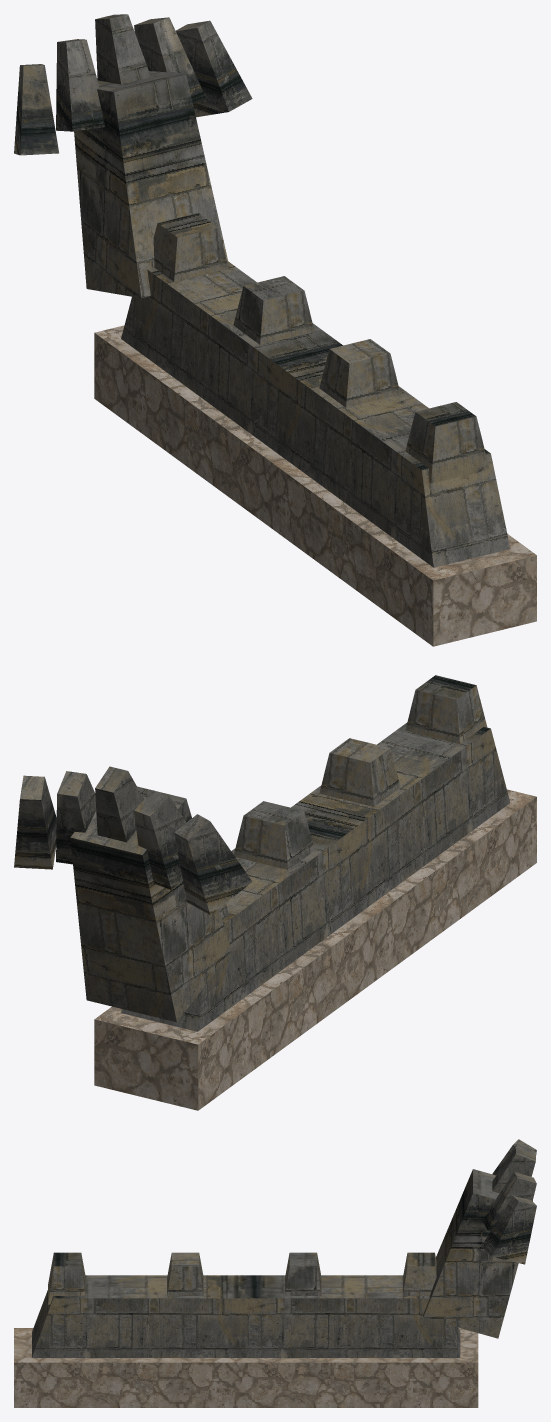
The model's file is temple_statue_naga_rail.glb.
The picture shows the model from 3 angles, top to bottom: view 1: azimuth 30°, elevation 25°; view 2: azimuth 150°, elevation 25°; view 3: azimuth 270°, elevation 25°; orthographic projection. The views are drawn at different scales.
Visible parts, largest first — view 1: temple_statue_naga_rail; view 2: temple_statue_naga_rail; view 3: temple_statue_naga_rail.
Boxes of the visible parts, x1,y1,x2,y2 form: temple_statue_naga_rail: (14,14,536,646); temple_statue_naga_rail: (14,675,536,1110); temple_statue_naga_rail: (14,1139,536,1407).
Bounding box in the file's own units: 1.03 × 1.48 × 2.93.
2 materials, 2 textured.
